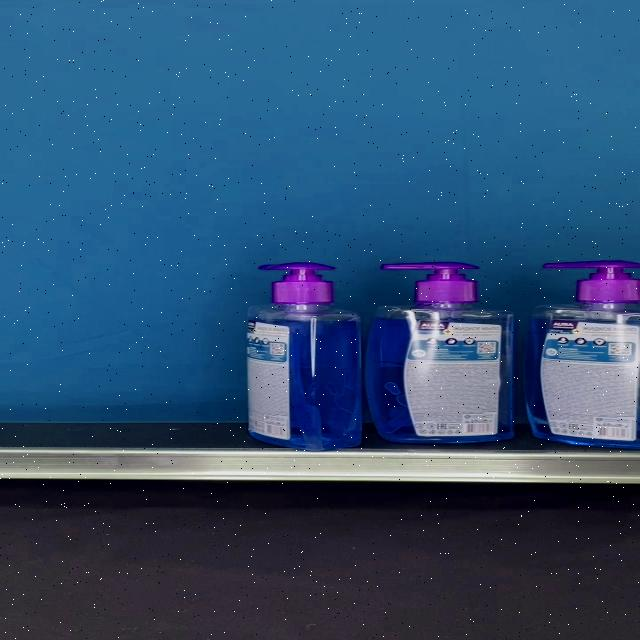Bottle: (364, 262, 514, 444), (246, 262, 363, 450)
Cap: (381, 262, 479, 303), (258, 262, 336, 303)
